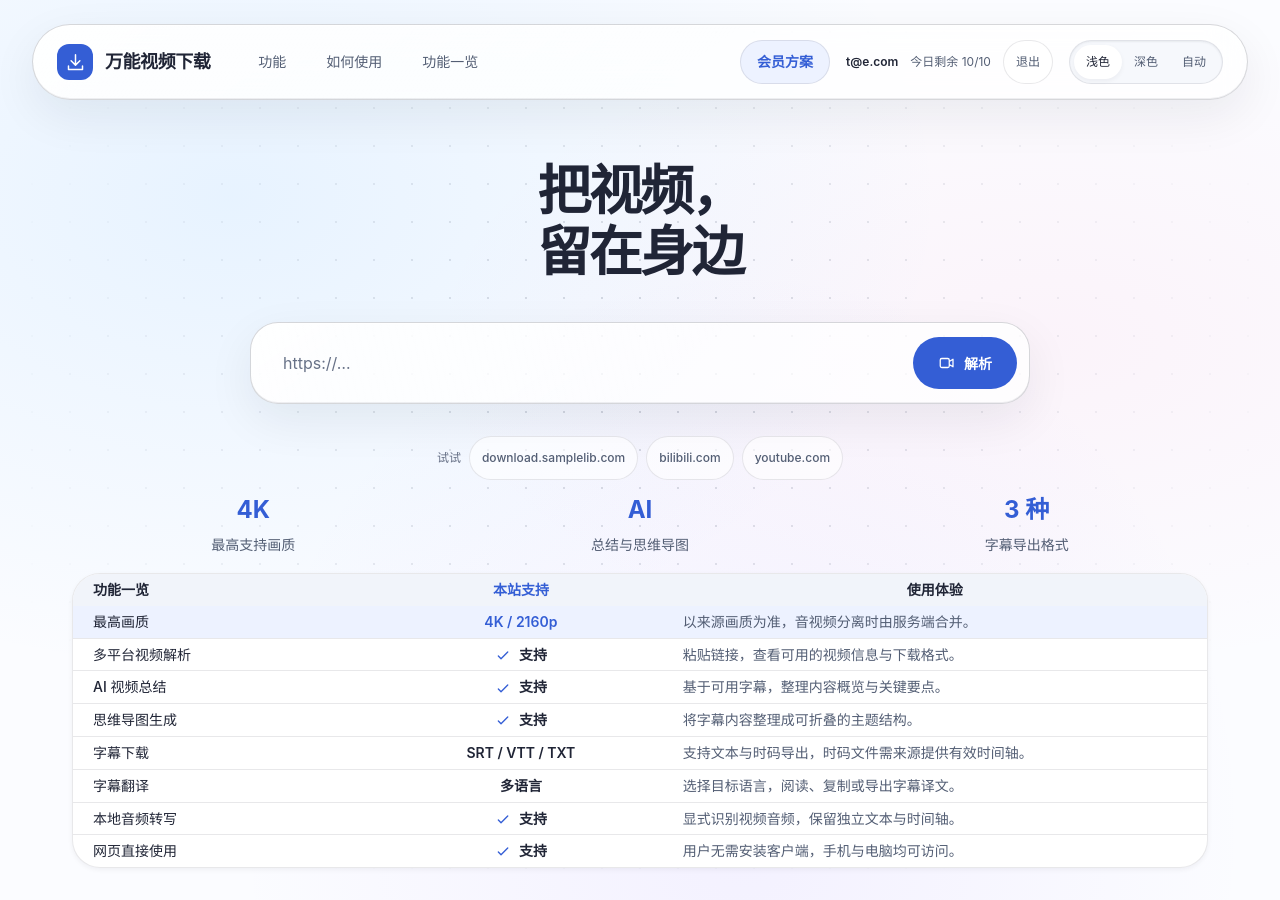
App 功能闭环 › 平台安全校验错误显示明确提示且不自动重试或要求登录
Type "https://www.bilibili.com/video/BV13vpG67ELM" into the field named "视频链接".
click(582, 363); type("https://www.bilibili.com/video/BV13vpG67ELM")  # box [263, 335, 901, 391]
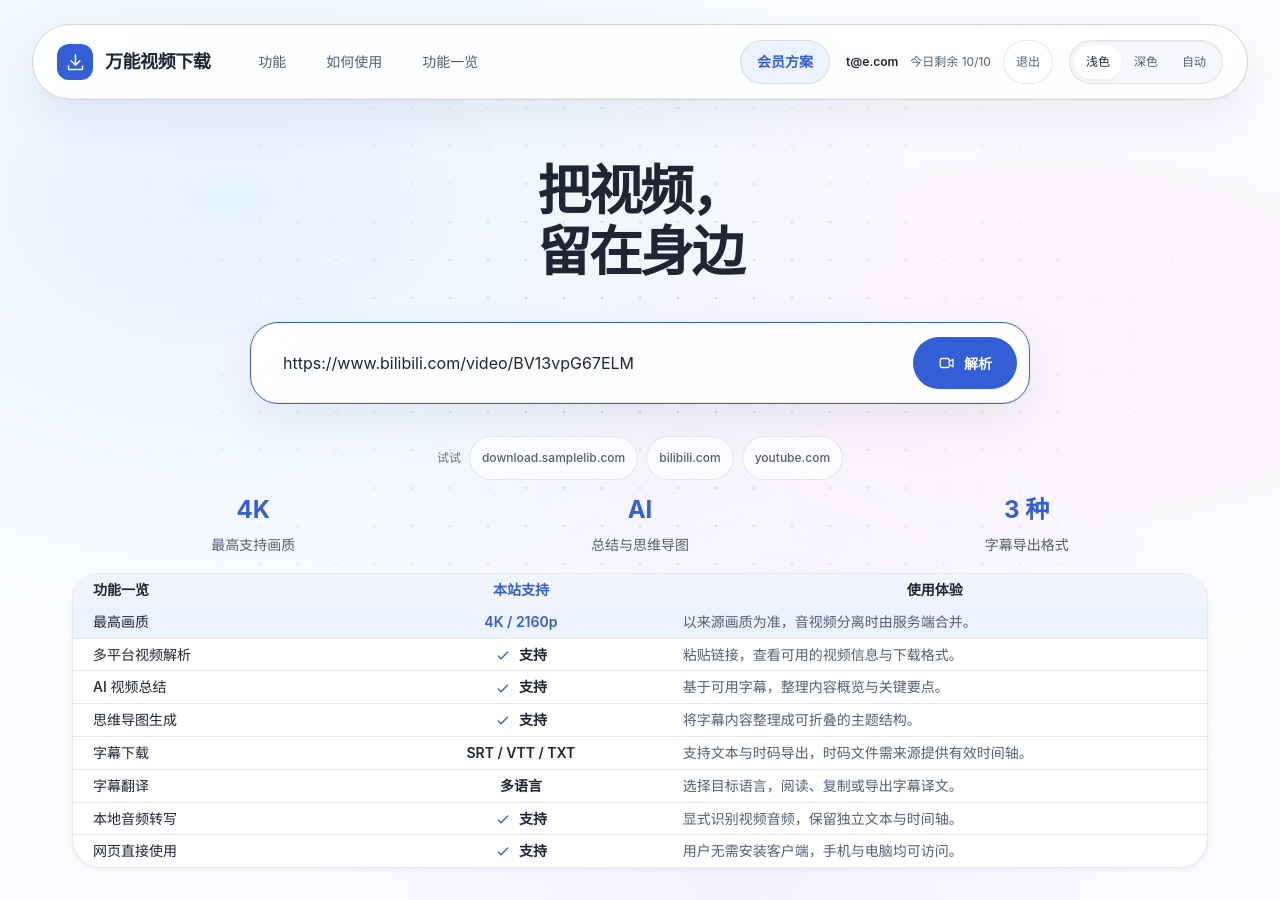
Click the button "解析".
click(965, 363)  # box [913, 337, 1017, 389]
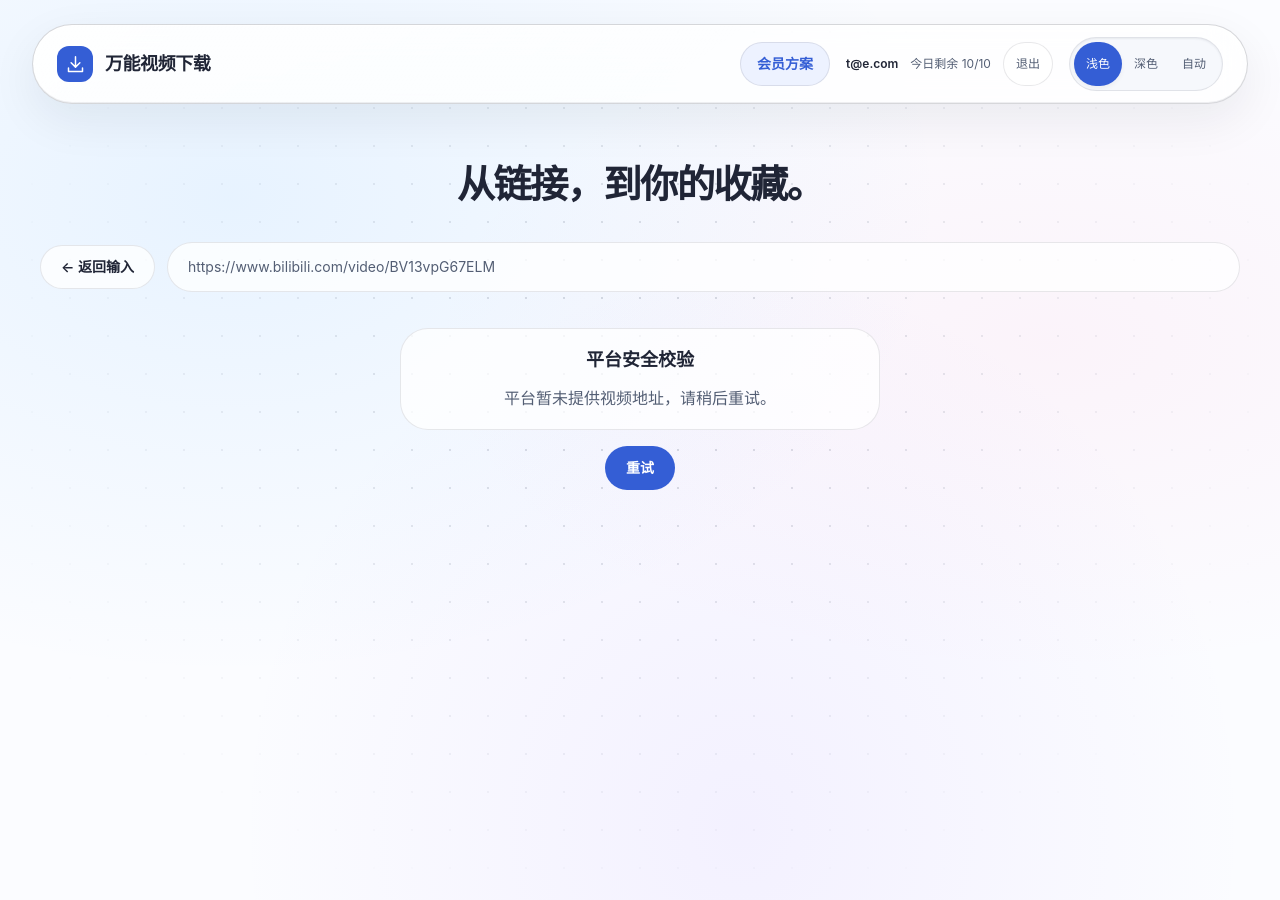
Check: the heading "平台安全校验" is shown, box [586, 345, 694, 375]
Check: the element with test id "error-scene" shows "平台暂未提供视频地址，请稍后重试。", box [504, 388, 776, 408]
Check: the button "重试" is shown, box [605, 446, 675, 490]
